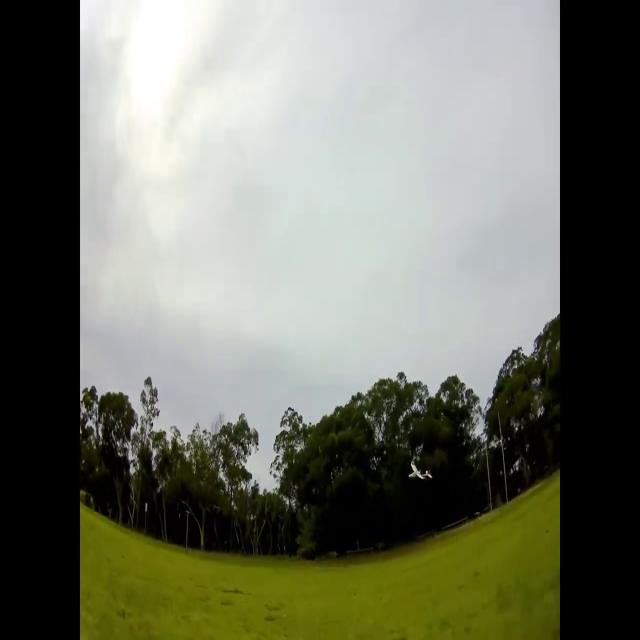iha: (408, 459, 432, 481)
